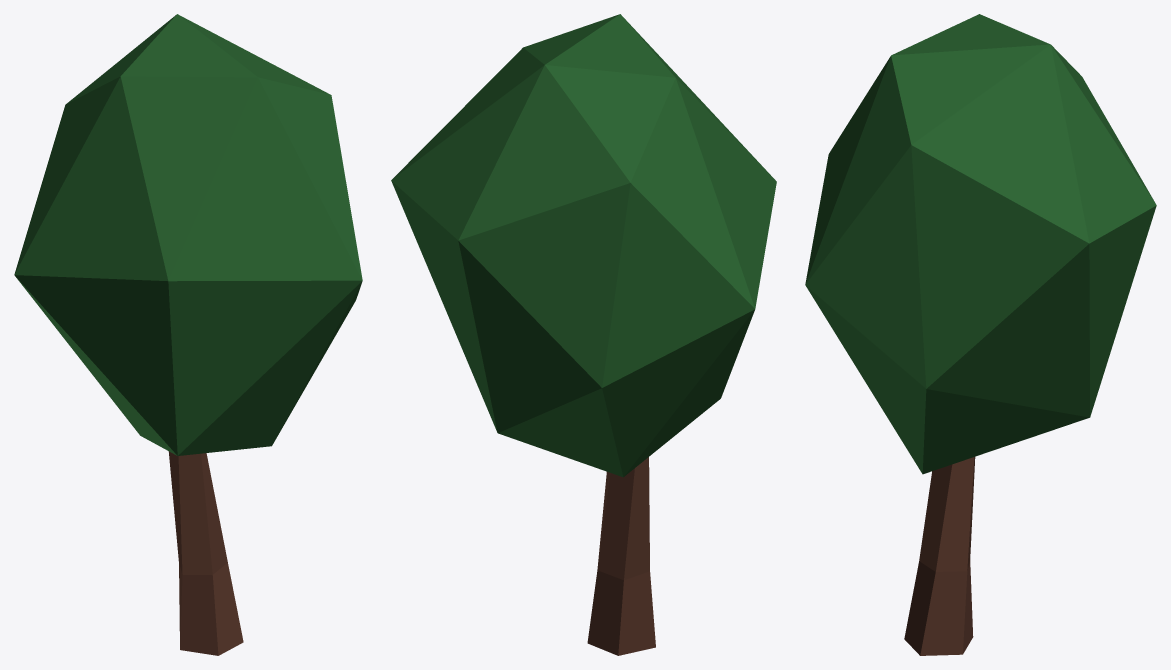
Rendered from TB_Env_RTree_A.FBX.
3 views of the same model, side by side, from view 1: azimuth 30°, elevation 25°; view 2: azimuth 150°, elevation 25°; view 3: azimuth 270°, elevation 25° (orthographic). The views are drawn at different scales.
Visible parts, largest first — view 1: TB_Env_RTree_A; view 2: TB_Env_RTree_A; view 3: TB_Env_RTree_A.
Part boxes in pixels (x1,y1,x2,y2): TB_Env_RTree_A: [14, 14, 362, 655]; TB_Env_RTree_A: [391, 14, 776, 655]; TB_Env_RTree_A: [805, 14, 1156, 655].
Bounding box in the file's own units: 3.08 × 5.53 × 2.89.
